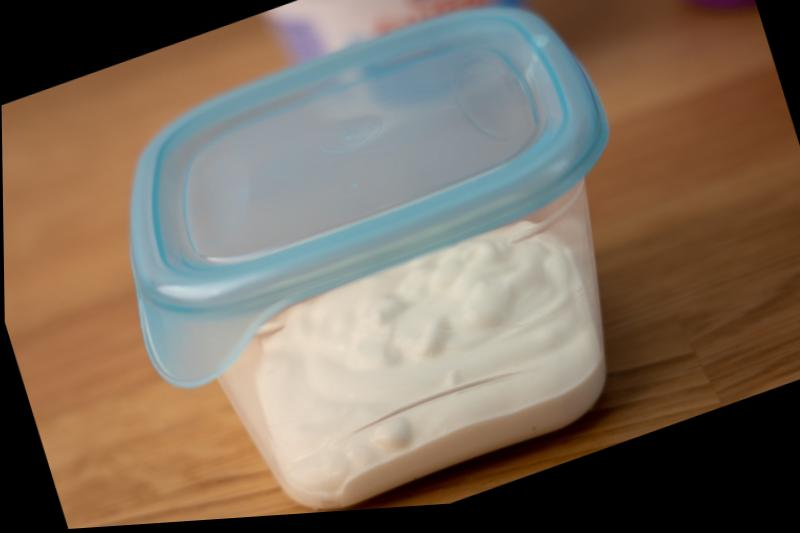plastic: (4, 0, 620, 528)
